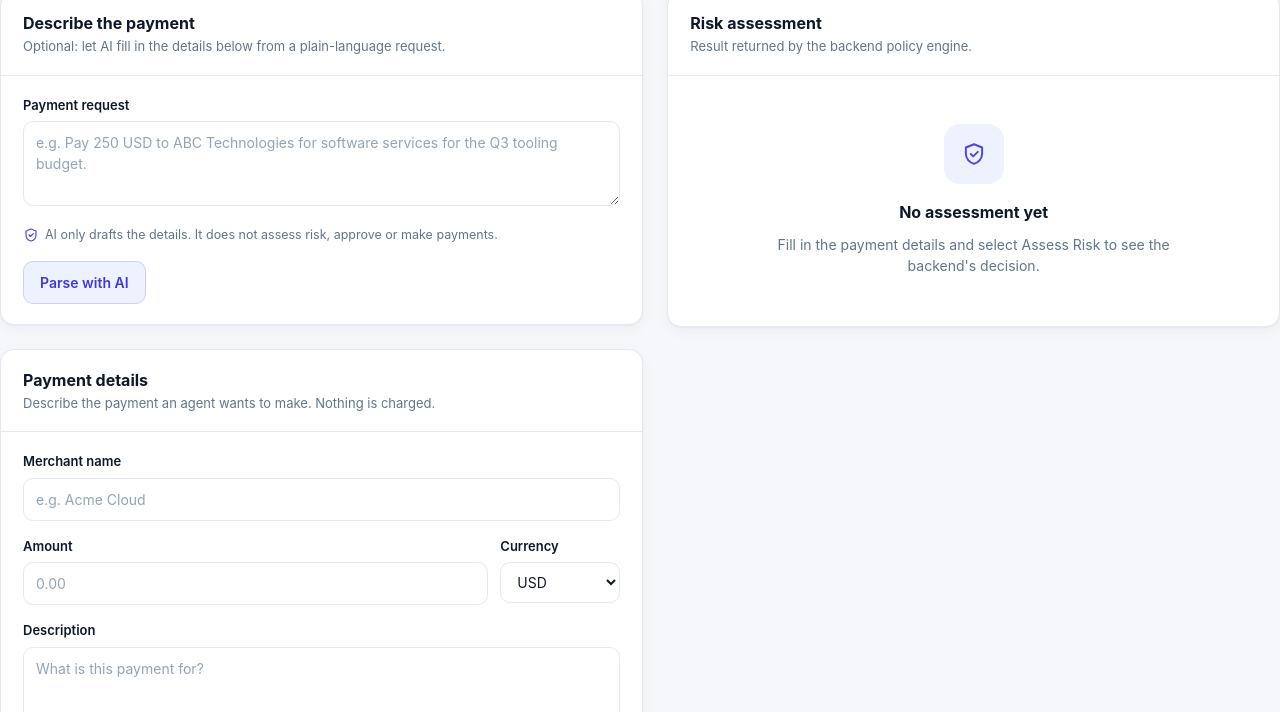
INR: natural-language parsing › assesses the parsed INR payment only after Assess Risk is clicked
Type "Pay 750000 INR to ABC Technologies." into the text box labelled "Payment request". click: [322, 164]
box: [23, 121, 620, 206]
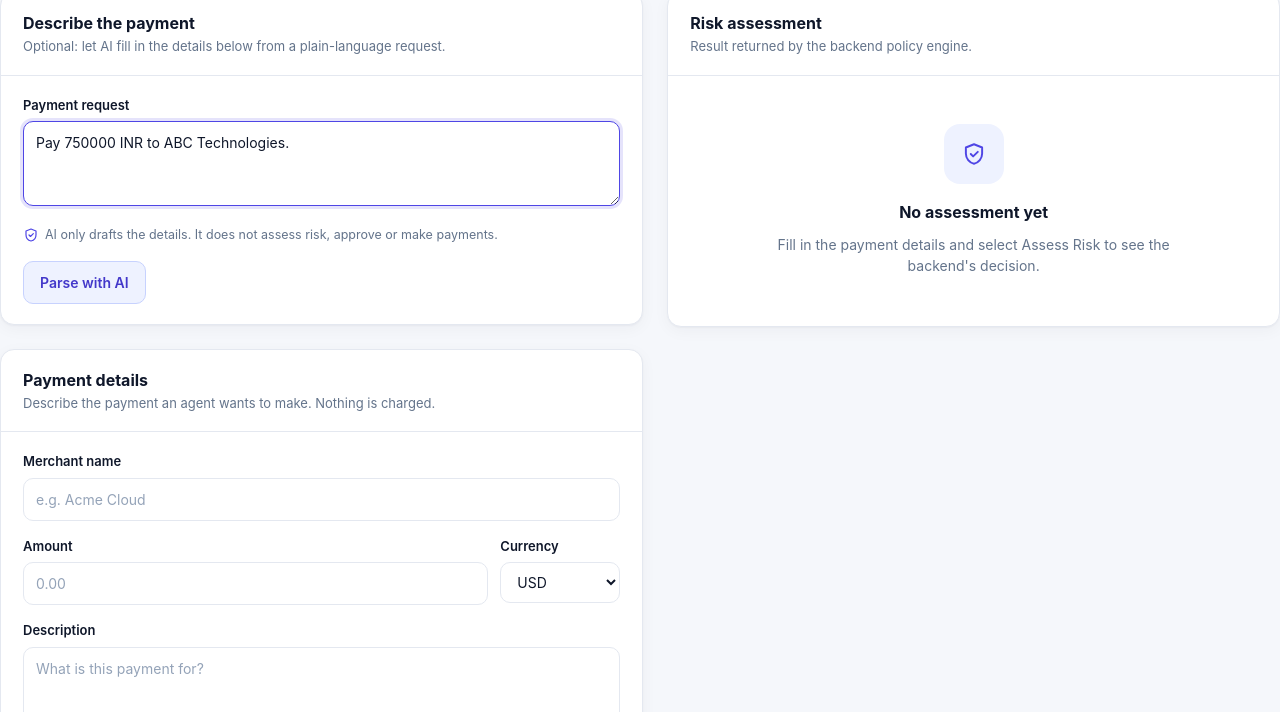
Click the button "Parse with AI". click: [84, 282]
box: [23, 261, 146, 304]
(page scrolled)
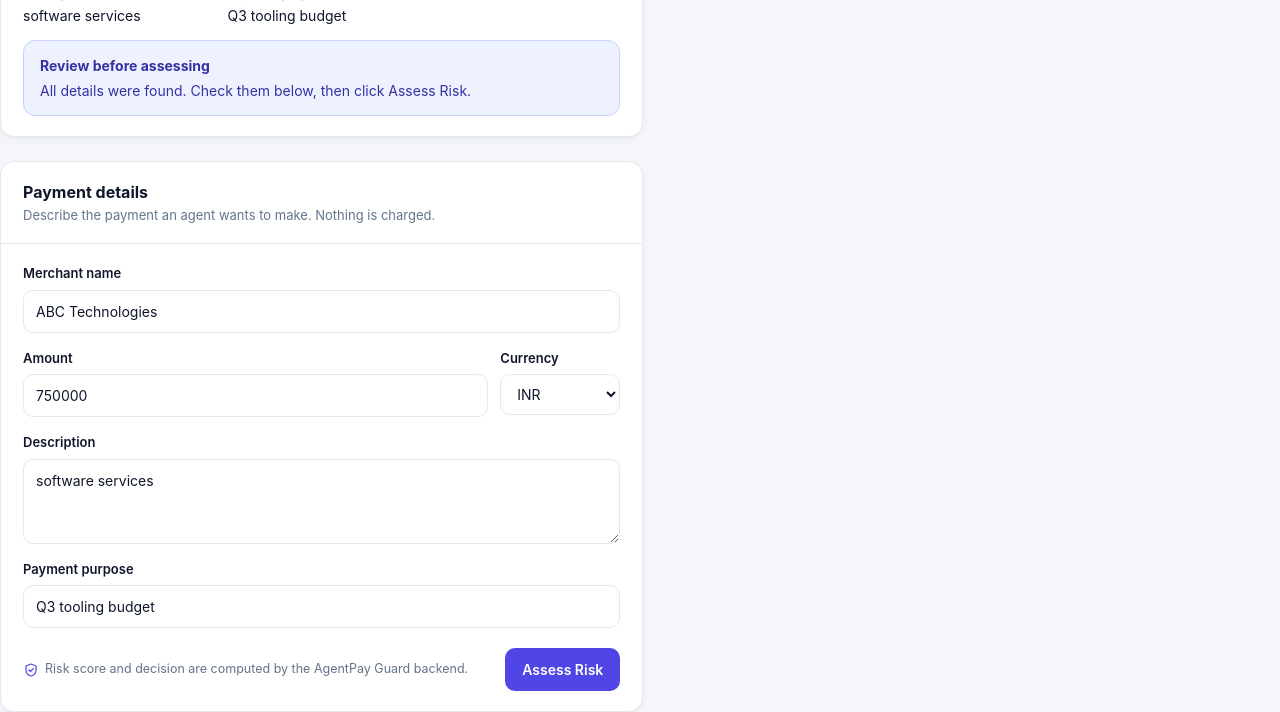
Click the button "Assess Risk". click: [563, 670]
box: [505, 648, 620, 691]
(page scrolled)
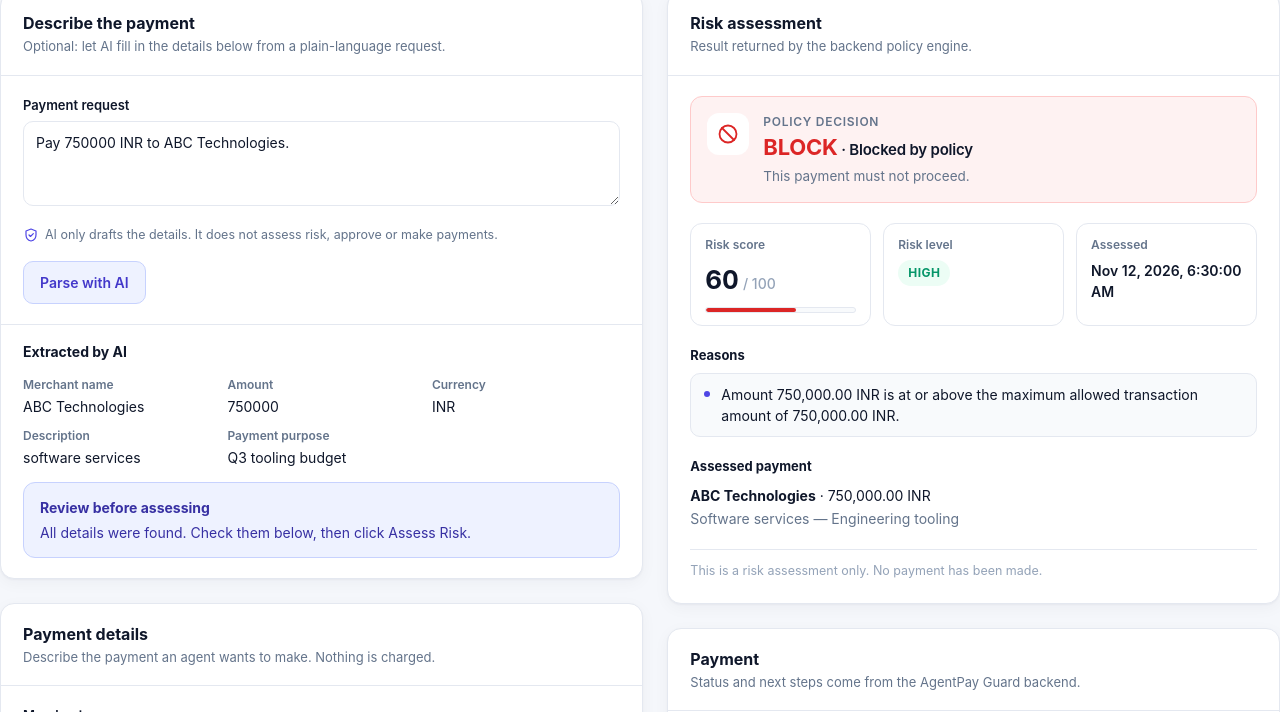
Result: the text "BLOCK" is shown at [763, 134, 838, 160]
